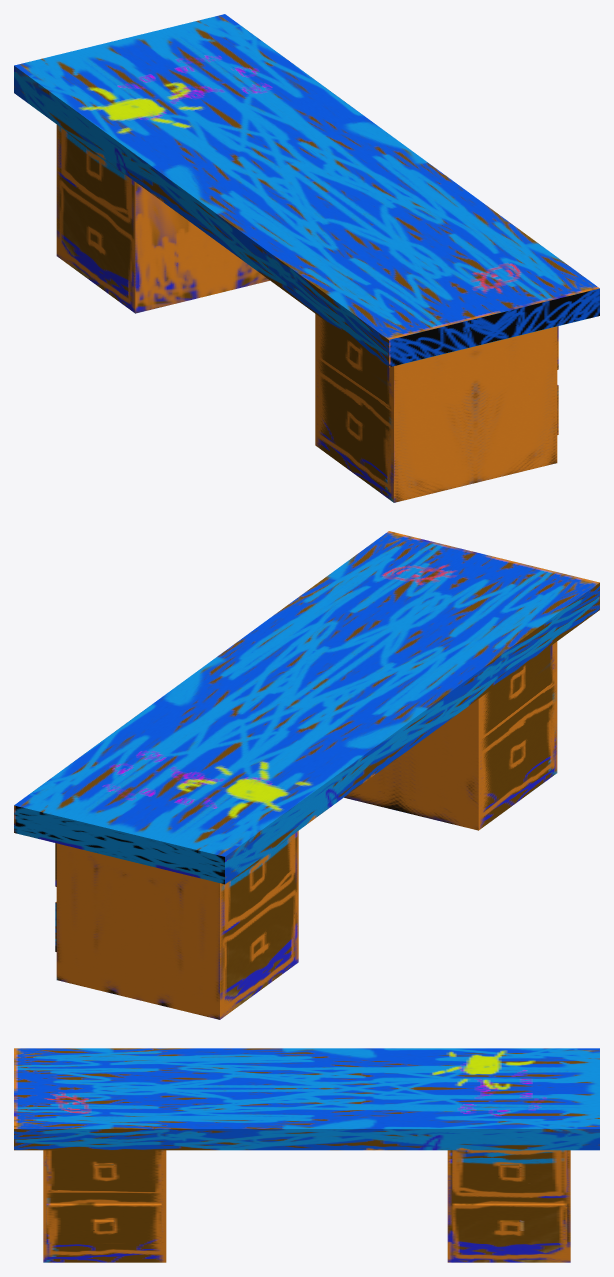
File: Table.fbx
3 views of the same model, one above another, from view 1: azimuth 30°, elevation 25°; view 2: azimuth 150°, elevation 25°; view 3: azimuth 270°, elevation 25° (orthographic). The views are drawn at different scales.
Visible parts, largest first — view 1: Cube; view 2: Cube; view 3: Cube.
Part boxes in pixels (x1,y1,x2,y2): Cube: (14, 14, 599, 502); Cube: (14, 531, 599, 1019); Cube: (14, 1048, 599, 1262).
Size of the model in its own units: 200 by 165 by 615.
